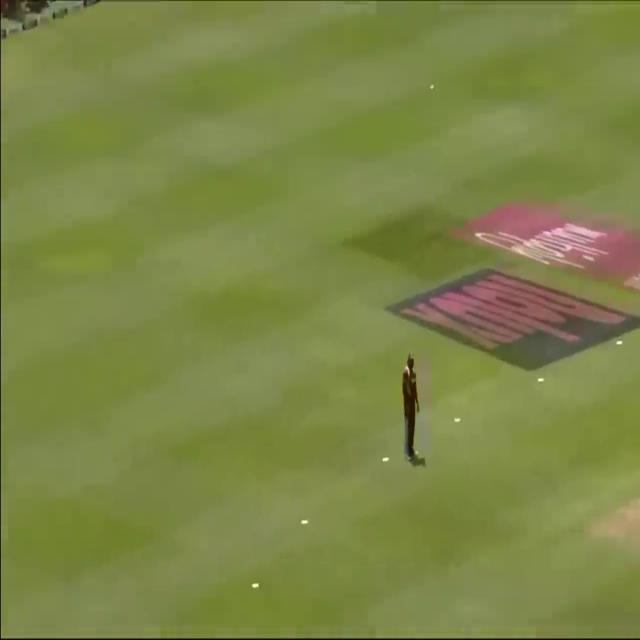Fielder: (391, 349, 431, 469)
